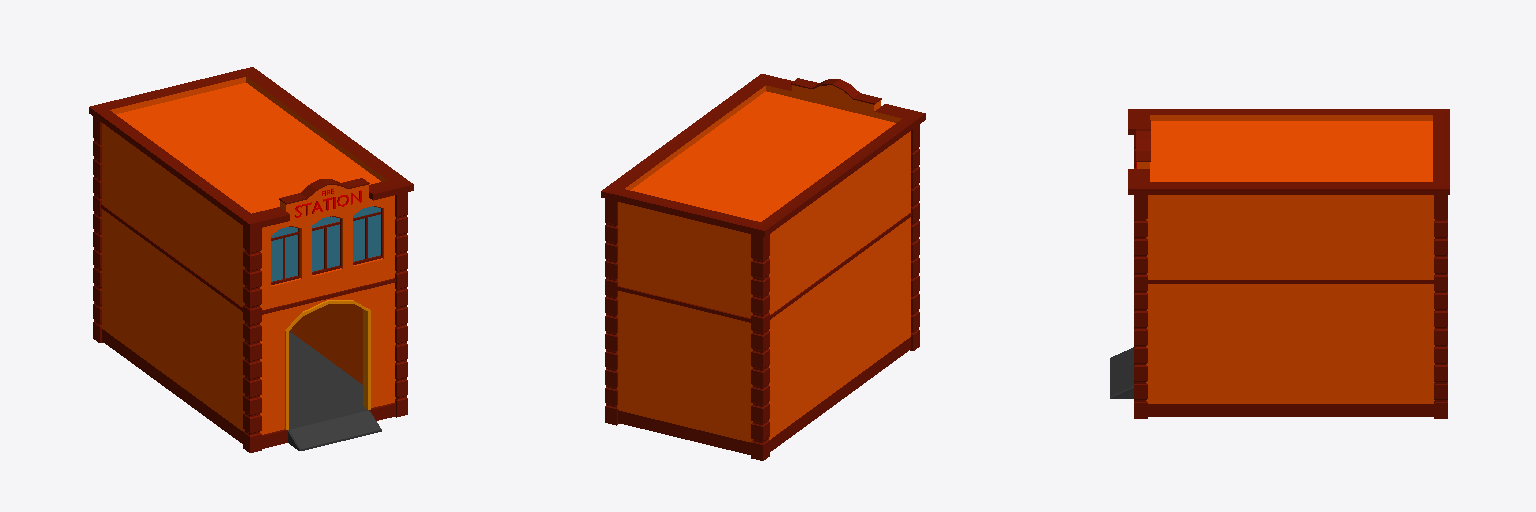
Rendered from FIRESTATION.obj.
3 views of the same model, side by side, from view 1: azimuth 30°, elevation 25°; view 2: azimuth 150°, elevation 25°; view 3: azimuth 270°, elevation 25° (orthographic).
Visible parts, largest first — view 1: Cube.002; view 2: Cube.002; view 3: Cube.002.
Boxes of the visible parts, x1=… form: Cube.002: x1=89, y1=67, x2=413, y2=452; Cube.002: x1=601, y1=74, x2=925, y2=460; Cube.002: x1=1110, y1=109, x2=1449, y2=418.
Size of the model in its own units: 5.03 by 7.3 by 9.03.